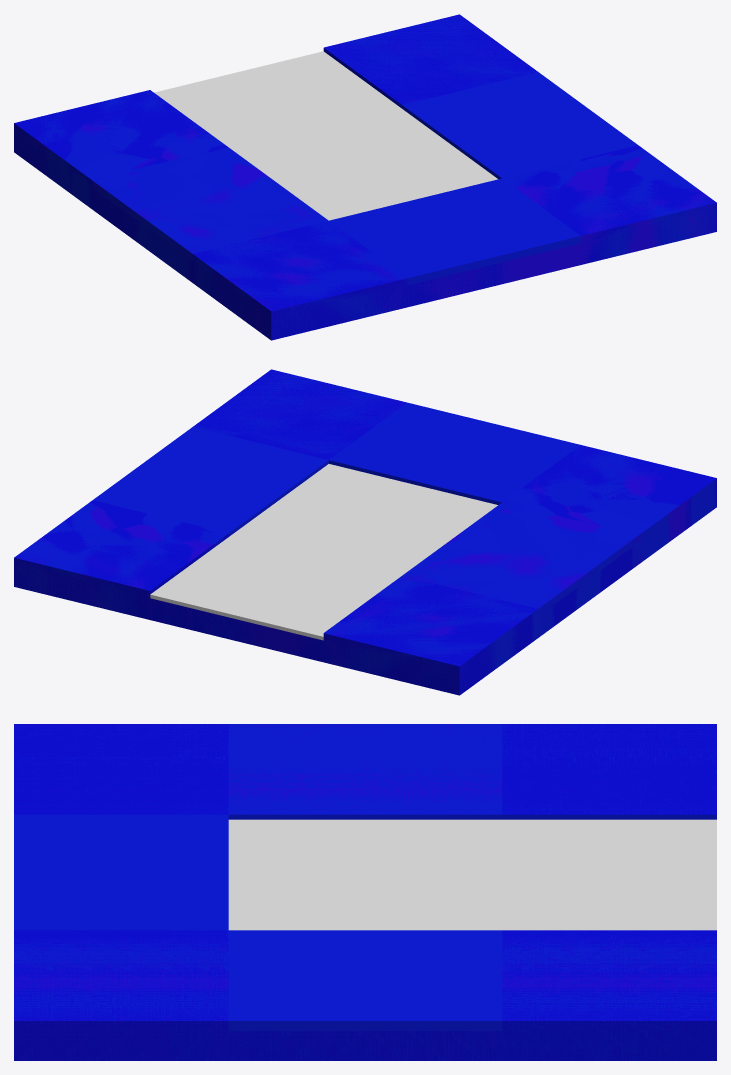
File: Roads.fbx
3 renders of one model, top to bottom at view 1: azimuth 30°, elevation 25°; view 2: azimuth 150°, elevation 25°; view 3: azimuth 270°, elevation 25°, orthographic. The views are drawn at different scales.
Visible parts, largest first — view 1: Plane.005, Plane.003, Plane.007, Plane.004, Plane.006; view 2: Plane.005, Plane.003, Plane.007, Plane.004, Plane.006; view 3: Plane.003, Plane.005, Plane.007, Plane.004, Plane.006.
Boxes of the visible parts, <box> form: Plane.005: <box>14,14,716,321</box>; Plane.003: <box>14,14,716,340</box>; Plane.007: <box>14,15,713,339</box>; Plane.004: <box>154,51,497,220</box>; Plane.006: <box>18,15,716,339</box>; Plane.005: <box>14,370,664,693</box>; Plane.003: <box>14,369,716,695</box>; Plane.007: <box>17,370,716,693</box>; Plane.004: <box>150,464,497,640</box>; Plane.006: <box>14,372,716,694</box>; Plane.003: <box>14,724,716,1060</box>; Plane.005: <box>14,724,716,1060</box>; Plane.007: <box>14,724,716,1060</box>; Plane.004: <box>228,819,716,930</box>; Plane.006: <box>14,724,716,1060</box>.
Size of the model in its own units: 1600 by 100 by 1600.
